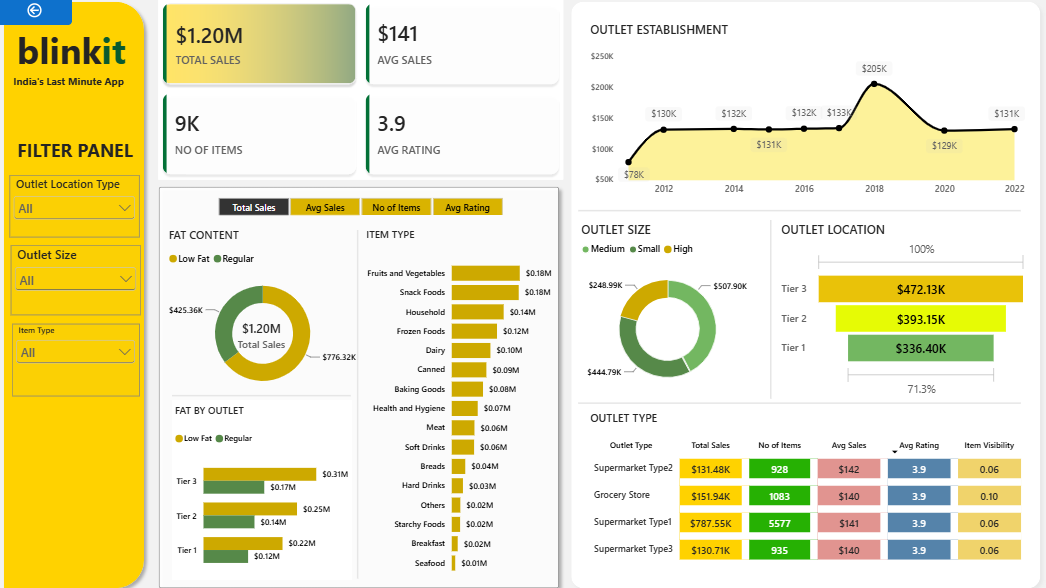

What the dashboard file says about the page in this screenshot:
{"tool":"powerbi","page":{"name":"Page 1","canvas":[1400,800],"ordinal":0},"visuals":[{"type":"shape","box":[0,22.5,205.6,750.4],"z":0},{"type":"textbox","box":[19.5,37.5,162.1,76.5],"z":1000},{"type":"textbox","box":[6,93.1,193.6,31.5],"z":2000},{"type":"cardVisual","fields":{"Data":["BlinkIT Grocery Data (2).Total Sales","BlinkIT Grocery Data (2).Avg Sales","BlinkIT Grocery Data (2).No of Items","BlinkIT Grocery Data (2).Avg Rating"]},"box":[200,11.4,590,270],"z":3000},{"type":"shape","box":[215.7,272.9,554.3,500],"z":4000},{"type":"donutChart","title":"FAT CONTENT","fields":{"Category":["BlinkIT Grocery Data (2).Item Fat Content"],"Y":["BlinkIT Grocery Data (2).Total Sales"]},"box":[230,321.4,220,230],"z":5000},{"type":"slicer","title":"FAT","fields":{"Values":["Metrics.Metrics"]},"box":[251.4,285.7,465.7,40],"z":6000},{"type":"cardVisual","fields":{"Data":["BlinkIT Grocery Data (2).Total Sales"]},"box":[289.5,415.6,100.5,77.7],"z":7000},{"type":"clusteredBarChart","title":"FAT BY OUTLET","fields":{"Category":["BlinkIT Grocery Data (2).Outlet Location Type"],"Series":["BlinkIT Grocery Data (2).Item Fat Content"],"Y":["BlinkIT Grocery Data (2).Total Sales"]},"box":[230,542.9,220,230],"z":8000},{"type":"shape","box":[246.7,522.8,199.7,28.2],"z":9000},{"type":"shape","box":[458.6,328.6,25.7,427.1],"z":10000},{"type":"barChart","title":"ITEM TYPE","fields":{"Category":["BlinkIT Grocery Data (2).Item Type"],"Y":["BlinkIT Grocery Data (2).Total Sales"]},"box":[483.9,328.4,265.4,427.6],"z":11000},{"type":"shape","box":[769.4,22.8,630,750.7],"z":12000},{"type":"lineChart","title":"OUTLET ESTABLISHMENT","fields":{"Category":["BlinkIT Grocery Data (2).Outlet Establishment Year"],"Y":["BlinkIT Grocery Data (2).Total Sales"]},"box":[789.5,40.2,592.5,234.6],"z":13000},{"type":"shape","box":[789.5,266.8,592.5,18.8],"z":14000},{"type":"donutChart","title":"OUTLET SIZE","fields":{"Category":["BlinkIT Grocery Data (2).Outlet Size"],"Y":["BlinkIT Grocery Data (2).Total Sales"]},"box":[789.5,288.2,274.8,225.2],"z":15000},{"type":"shape","box":[1073.7,305.6,24.1,187.7],"z":16000},{"type":"funnel","title":"OUTLET LOCATION","fields":{"Category":["BlinkIT Grocery Data (2).Outlet Location Type"],"Y":["Sum(BlinkIT Grocery Data (2).Sales)"]},"box":[1097.9,290.9,284.2,225.2],"z":17000},{"type":"shape","box":[789.5,513.4,592.5,18.8],"z":18000},{"type":"pivotTable","title":"OUTLET TYPE","fields":{"Rows":["BlinkIT Grocery Data (2).Outlet Type"],"Values":["BlinkIT Grocery Data (2).Total Sales","BlinkIT Grocery Data (2).No of Items","BlinkIT Grocery Data (2).Avg Sales","BlinkIT Grocery Data (2).Avg Rating","Avg(BlinkIT Grocery Data (2).Item Visibility)"]},"box":[789.5,537.5,592.5,218.5],"z":19000},{"type":"slicer","fields":{"Values":["BlinkIT Grocery Data (2).Outlet Location Type"]},"box":[16.1,198.4,171.6,123.3],"z":20000},{"type":"slicer","fields":{"Values":["BlinkIT Grocery Data (2).Outlet Size"]},"box":[14.7,337.8,171.6,116.6],"z":21000},{"type":"slicer","fields":{"Values":["BlinkIT Grocery Data (2).Item Type"]},"box":[14.7,473.2,171.6,77.7],"z":22000},{"type":"textbox","box":[14.7,160.9,172.9,37.5],"z":23000}]}

Visuals, with their boxes in screenshot pixels (x1, y1, x2, y2), scaled from the page's 1400x800 canvas onto the 1046x588 screenshot:
shape: rect(0, 17, 154, 568)
textbox: rect(15, 28, 136, 84)
textbox: rect(4, 68, 149, 92)
cardVisual - BlinkIT Grocery Data (2).Total Sales x BlinkIT Grocery Data (2).Avg Sales: rect(149, 8, 590, 207)
shape: rect(161, 201, 575, 568)
"FAT CONTENT" donutChart: rect(172, 236, 336, 405)
"FAT" slicer: rect(188, 210, 536, 239)
cardVisual - BlinkIT Grocery Data (2).Total Sales: rect(216, 305, 291, 363)
"FAT BY OUTLET" clusteredBarChart: rect(172, 399, 336, 568)
shape: rect(184, 384, 334, 405)
shape: rect(343, 242, 362, 555)
"ITEM TYPE" barChart: rect(362, 241, 560, 556)
shape: rect(575, 17, 1045, 569)
"OUTLET ESTABLISHMENT" lineChart: rect(590, 30, 1033, 202)
shape: rect(590, 196, 1033, 210)
"OUTLET SIZE" donutChart: rect(590, 212, 795, 377)
shape: rect(802, 225, 820, 363)
"OUTLET LOCATION" funnel: rect(820, 214, 1033, 379)
shape: rect(590, 377, 1033, 391)
"OUTLET TYPE" pivotTable: rect(590, 395, 1033, 556)
slicer - BlinkIT Grocery Data (2).Outlet Location Type: rect(12, 146, 140, 236)
slicer - BlinkIT Grocery Data (2).Outlet Size: rect(11, 248, 139, 334)
slicer - BlinkIT Grocery Data (2).Item Type: rect(11, 348, 139, 405)
textbox: rect(11, 118, 140, 146)
